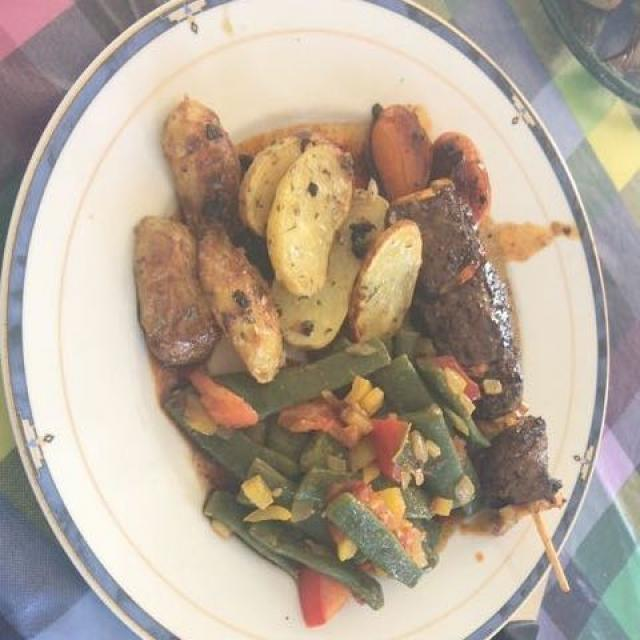mixed-vegetables: (156, 331, 484, 624)
